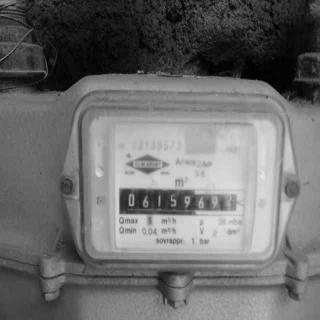1: (128, 192, 136, 209)
2: (154, 193, 162, 209)
3: (225, 195, 234, 209)
6: (170, 194, 179, 209)
7: (142, 195, 150, 210), (197, 196, 205, 211)
:: (182, 195, 192, 210), (210, 196, 220, 210)
